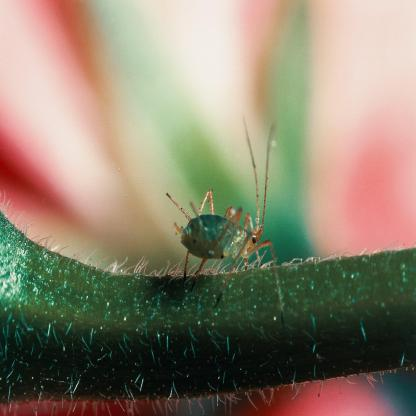aphid: (166, 127, 299, 310)
